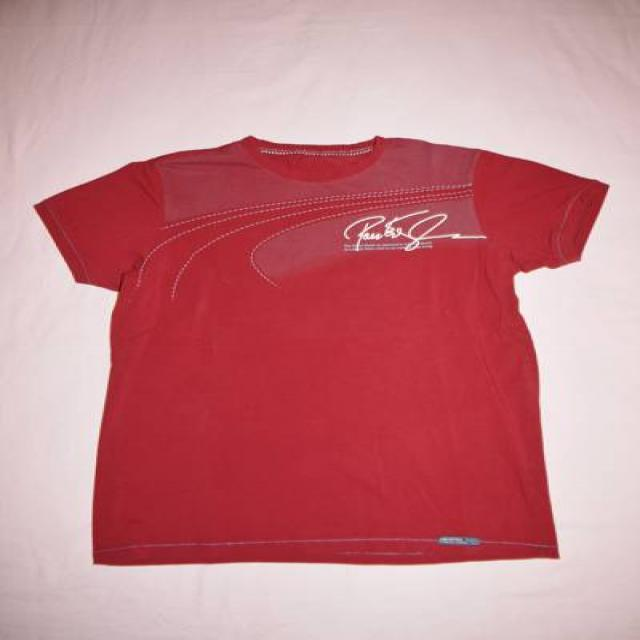Clothes -Biodegradable-: (35, 136, 606, 568)
